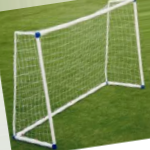goals: (12, 1, 146, 148)
